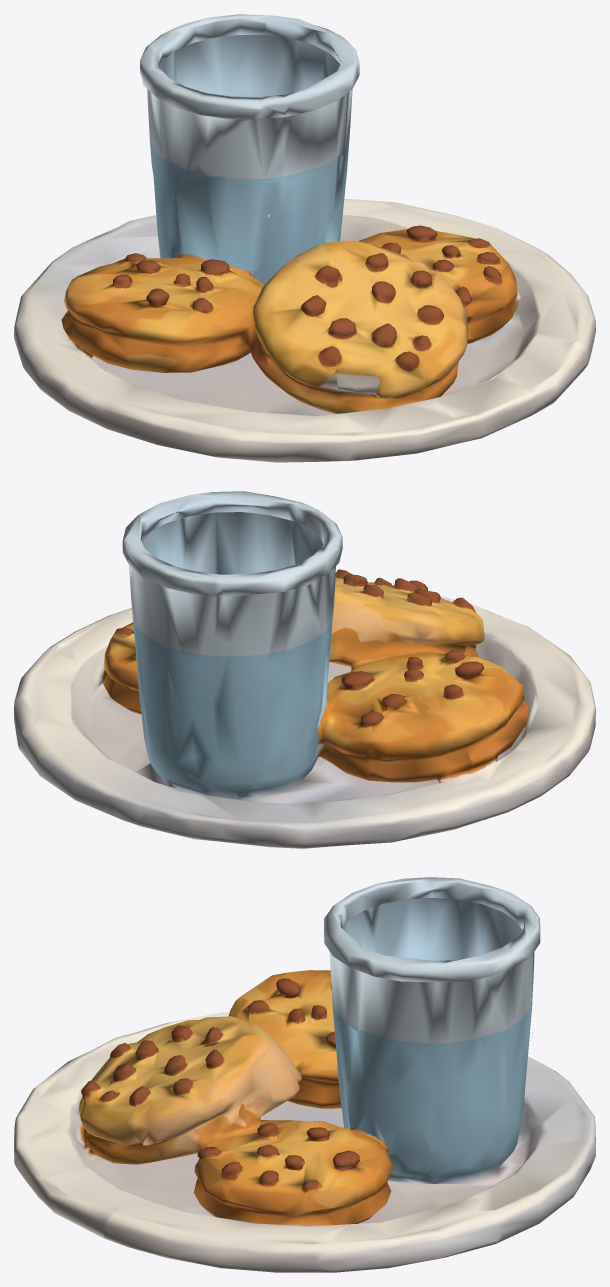
File: cookie_plate.glb
3 renders of one model, top to bottom at view 1: azimuth 30°, elevation 25°; view 2: azimuth 150°, elevation 25°; view 3: azimuth 270°, elevation 25°, orthographic.
Visible parts, largest first — view 1: tripo_node_132b9895-3a7e-400b-9186-7cf293db8930; view 2: tripo_node_132b9895-3a7e-400b-9186-7cf293db8930; view 3: tripo_node_132b9895-3a7e-400b-9186-7cf293db8930.
Part boxes in pixels (left/top/right/bottom): tripo_node_132b9895-3a7e-400b-9186-7cf293db8930: left=14, top=14, right=595, bottom=462; tripo_node_132b9895-3a7e-400b-9186-7cf293db8930: left=14, top=491, right=595, bottom=848; tripo_node_132b9895-3a7e-400b-9186-7cf293db8930: left=14, top=877, right=595, bottom=1272.
Bounding box in the file's own units: 0.9997 × 0.467 × 0.9993.
1 material, 1 textured.
